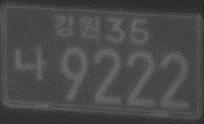2: (159, 52, 191, 109), (126, 50, 156, 105), (92, 48, 121, 103)
3: (104, 16, 126, 42)
5: (130, 18, 151, 45)
9: (60, 46, 89, 103)
강원_O: (54, 14, 100, 41)
나: (12, 44, 49, 78)
